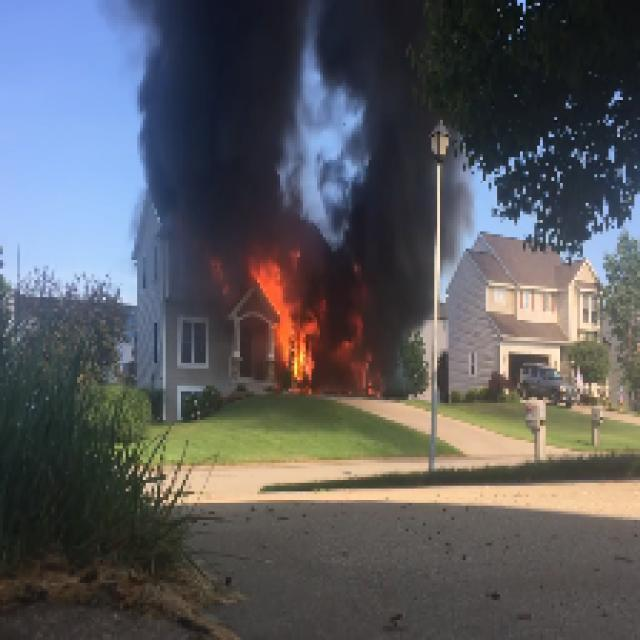Fire: (248, 261, 312, 377)
Smoke: (172, 3, 290, 229), (351, 159, 439, 347), (317, 12, 415, 128)
